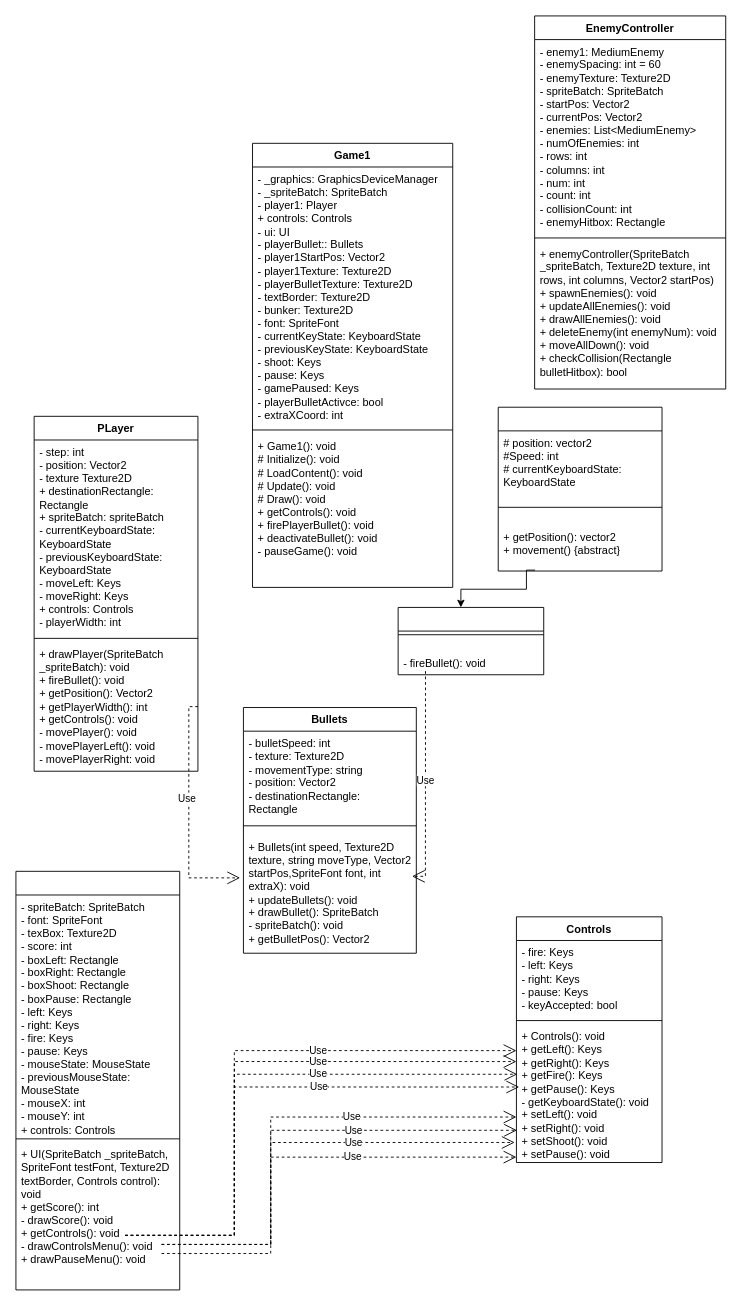
Some shapes in this 742 by 1309 pixel diagram are drawn without their labels. Here are the shapes that lost their labels. From the top down, the box of each, then its label:
(497, 406, 662, 571): enemies {abstract}
(397, 607, 544, 675): classicMedium
(15, 870, 180, 1290): UI
